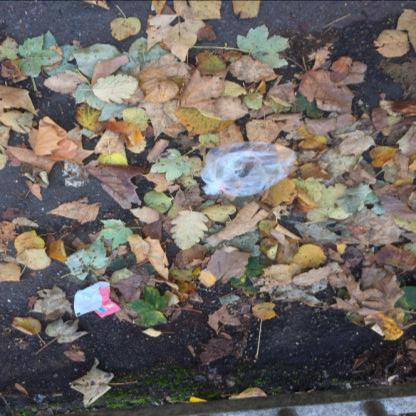Plastic bag - wrapper: (200, 141, 297, 196), (74, 282, 121, 318)
